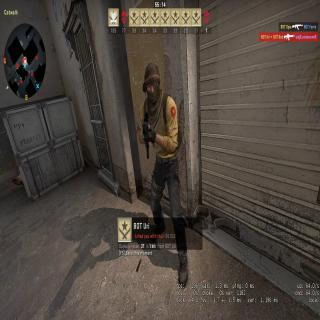T-Body: (135, 56, 185, 318)
T-Head: (144, 63, 161, 98)
